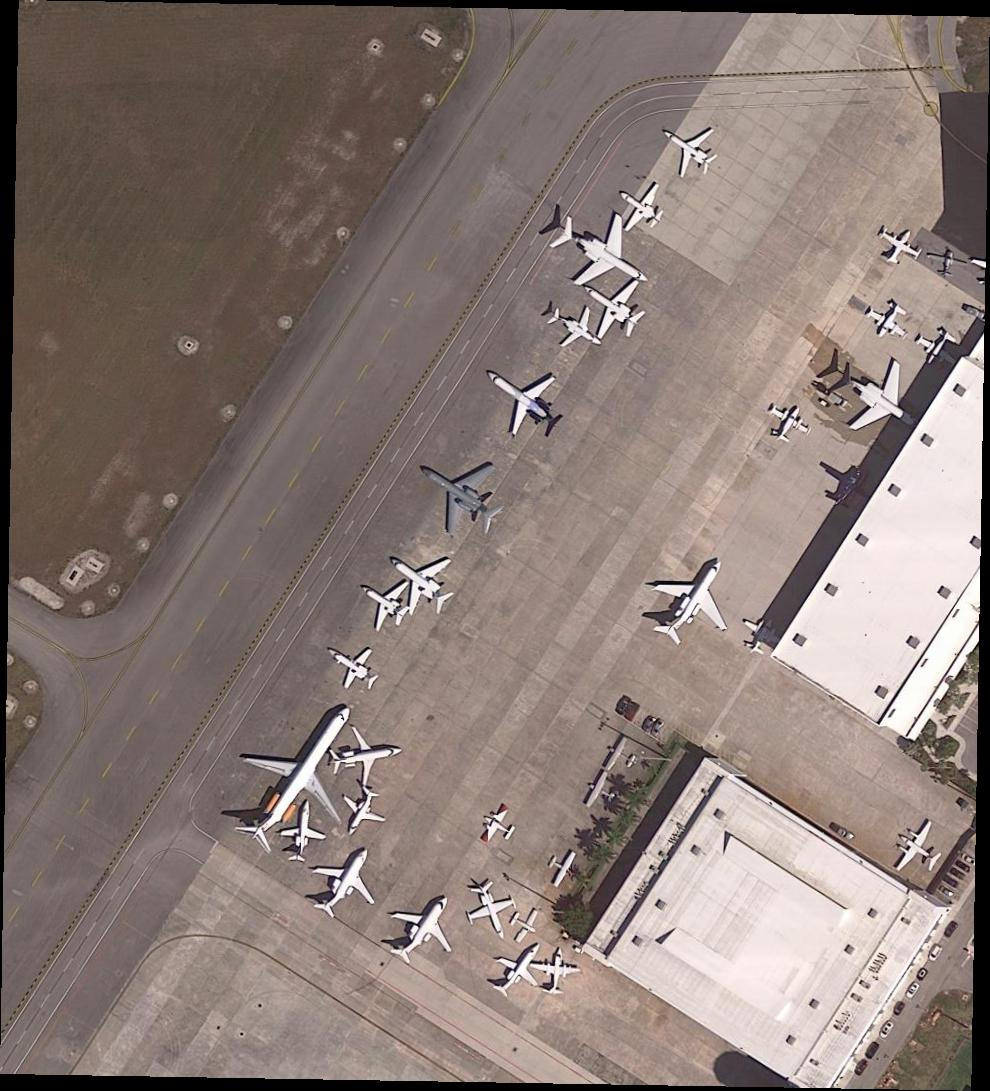plane: (209, 674, 400, 882), (538, 191, 669, 316), (395, 430, 523, 557), (635, 540, 757, 665), (817, 337, 940, 458), (465, 342, 582, 456), (375, 876, 477, 982), (295, 831, 396, 936), (373, 529, 472, 629), (566, 259, 659, 356), (648, 108, 730, 190), (481, 929, 557, 1010), (348, 562, 424, 640), (603, 168, 676, 246), (327, 719, 406, 789), (883, 810, 953, 886), (316, 629, 389, 701), (541, 293, 614, 365), (809, 453, 881, 521), (459, 876, 526, 949), (327, 780, 395, 849), (760, 395, 819, 454), (860, 292, 919, 350), (910, 320, 968, 378), (870, 218, 928, 274), (281, 799, 329, 863), (733, 609, 788, 664), (471, 799, 524, 854), (528, 947, 583, 996), (598, 732, 643, 780), (580, 768, 624, 817), (540, 842, 583, 892), (502, 902, 545, 949), (923, 246, 970, 283)
